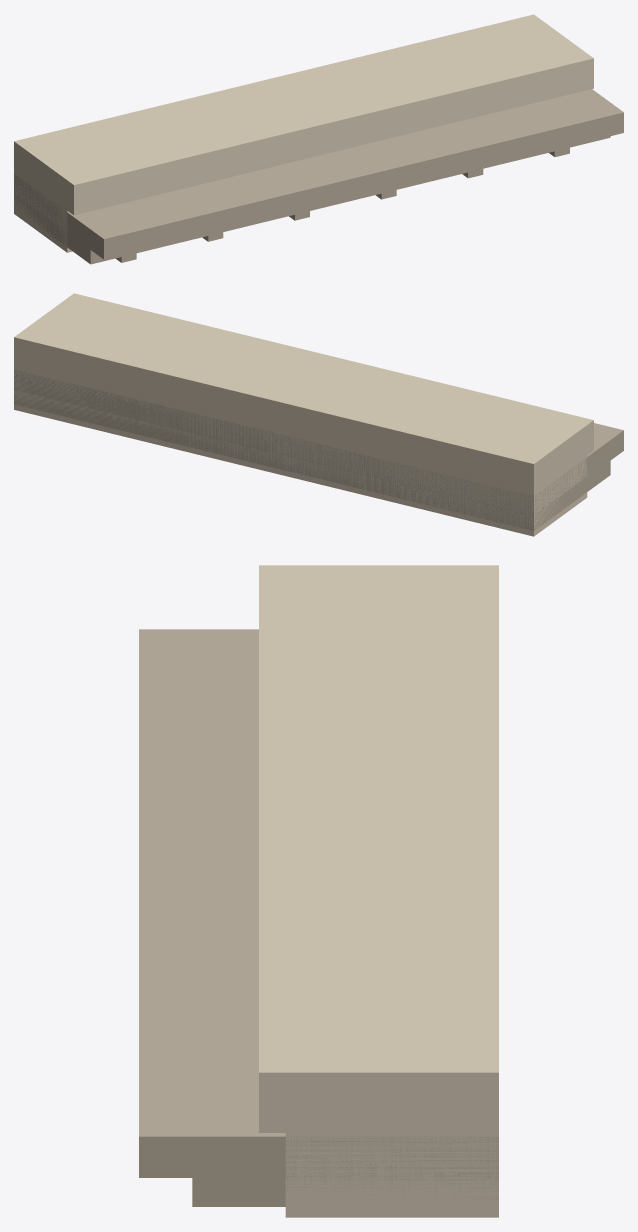
File: cittaVecchiaTetto.glb
The picture shows the model from 3 angles, top to bottom: view 1: azimuth 30°, elevation 25°; view 2: azimuth 150°, elevation 25°; view 3: azimuth 270°, elevation 25°; orthographic projection. The views are drawn at different scales.
Parts seen in each view (by area): view 1: cittaVecchiaTetto_plaster, cittaVecchiaTetto_stone; view 2: cittaVecchiaTetto_plaster, cittaVecchiaTetto_stone; view 3: cittaVecchiaTetto_plaster, cittaVecchiaTetto_stone.
Boxes of the visible parts, <box> form: cittaVecchiaTetto_plaster: <box>14,14,593,252</box>; cittaVecchiaTetto_stone: <box>14,89,623,264</box>; cittaVecchiaTetto_plaster: <box>14,293,593,536</box>; cittaVecchiaTetto_stone: <box>14,369,623,530</box>; cittaVecchiaTetto_plaster: <box>259,565,498,1217</box>; cittaVecchiaTetto_stone: <box>139,629,498,1206</box>.
Size of the model in its own units: 9 by 1.29 by 2.7.
